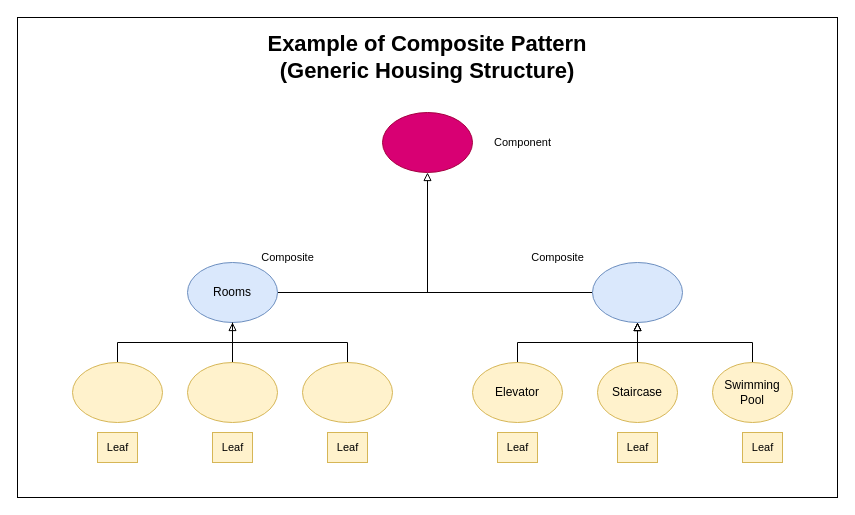
Some shapes in this 855 by 515 pixel diagram are drawn without their labels. The shapes that lost their labels are listed below. From the top down, each one's box as (x1, y1, x2, y2) in pixels, then its label:
(382, 112, 472, 172): Appartment
(592, 262, 682, 322): Common Area
(72, 362, 162, 422): Bedroom
(186, 362, 278, 422): Kitchen
(302, 362, 392, 422): Bathroom
